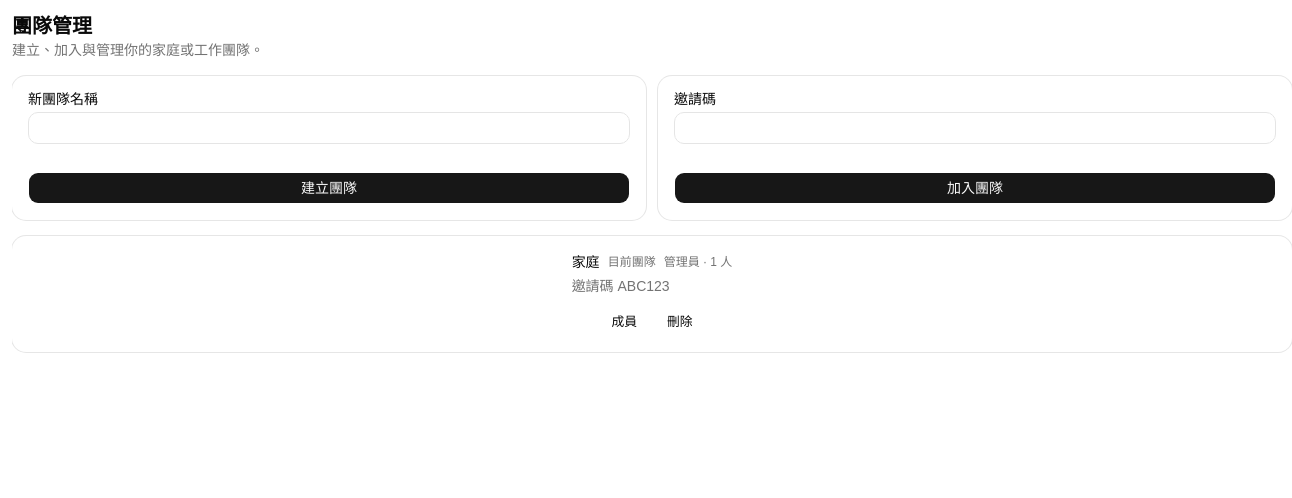
it: TeamsPage › creates a team and makes it current
Expected: the text "家庭" is shown, [572,252,600,272]
Type "工作" into the field labelled "新團隊名稱" at (329, 128), box [28,112,630,144]
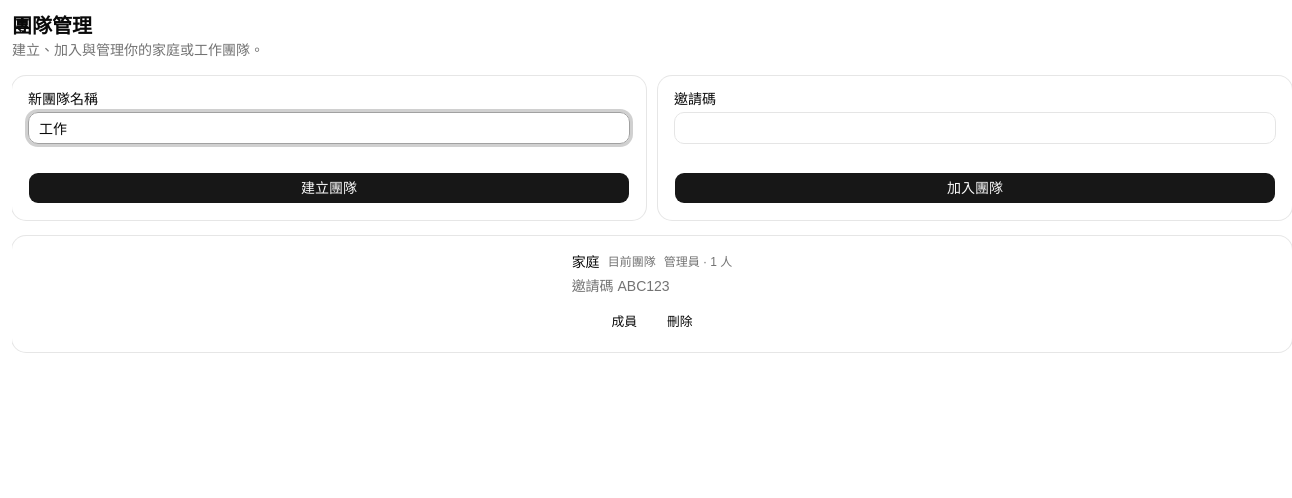
Click the button "建立團隊" at (329, 188), box [28,172,630,204]
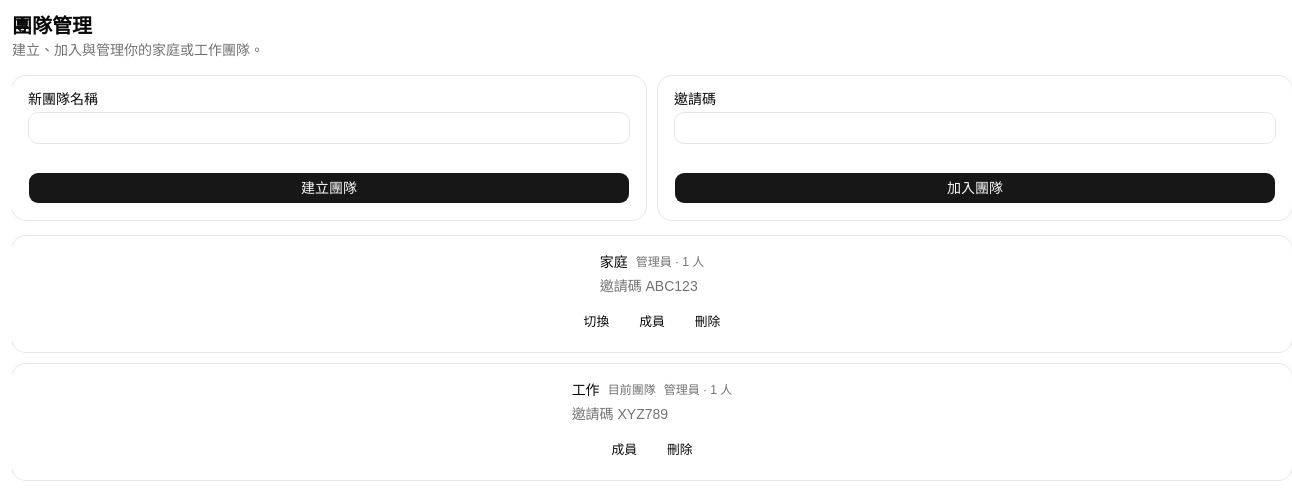
Now the text "工作" is shown, box [572,380,600,400]
